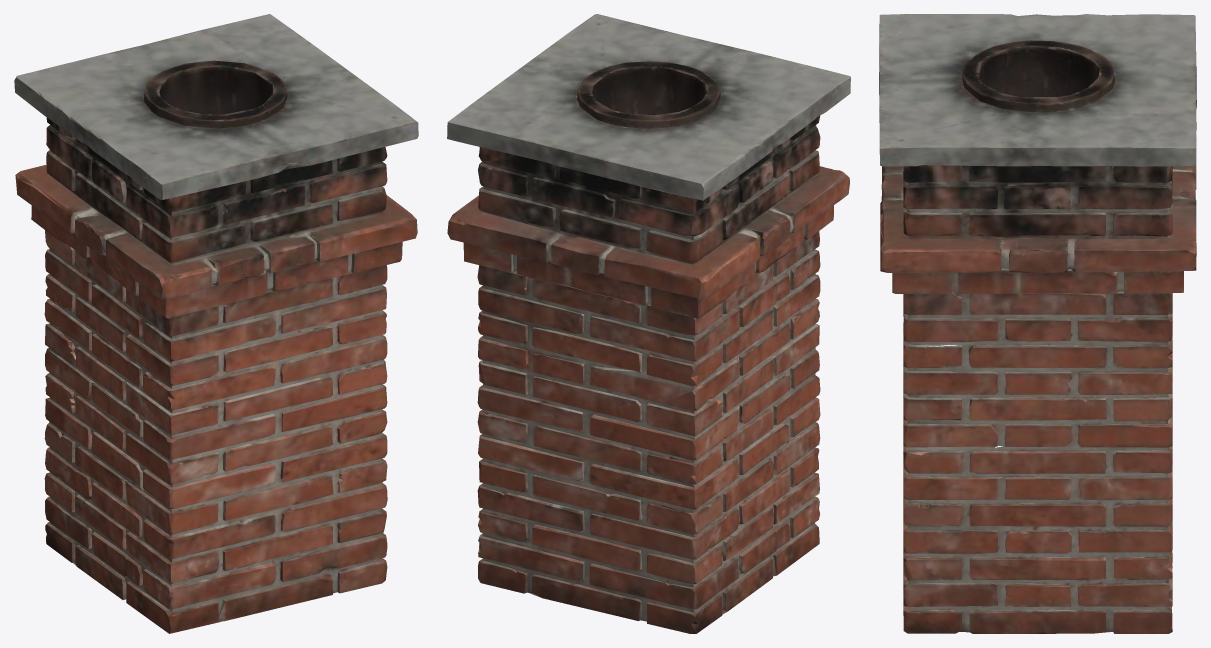
File: familok_roof_chimney.glb
The picture shows the model from 3 angles, left to right: view 1: azimuth 30°, elevation 25°; view 2: azimuth 150°, elevation 25°; view 3: azimuth 270°, elevation 25°; orthographic projection. The views are drawn at different scales.
Visible parts, largest first — view 1: main; view 2: main; view 3: main.
Part boxes in pixels (x1,y1,x2,y2): main: (14,14,418,633); main: (447,14,850,633); main: (879,14,1196,633).
Bounding box in the file's own units: 0.5869 × 1.03 × 0.5869.
Materials: 1 (1 with a texture image).
